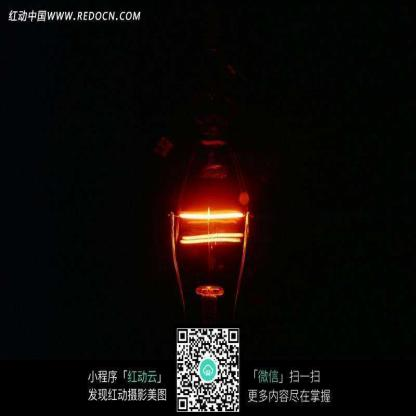other: (166, 176, 255, 273)
